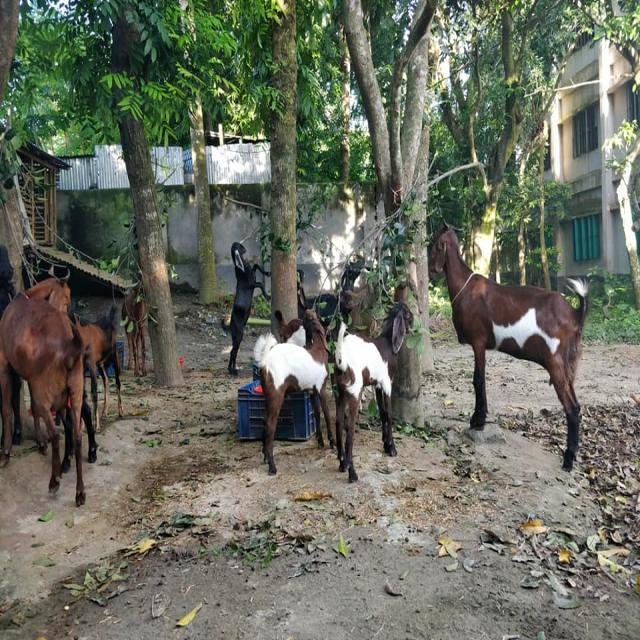Goat: (428, 219, 590, 471), (2, 291, 90, 506), (333, 300, 415, 483), (254, 307, 336, 475), (221, 240, 272, 375), (71, 303, 125, 430), (122, 279, 149, 376)
